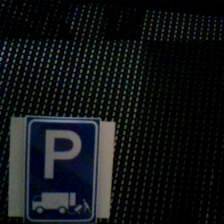load: (16, 114, 112, 220)
